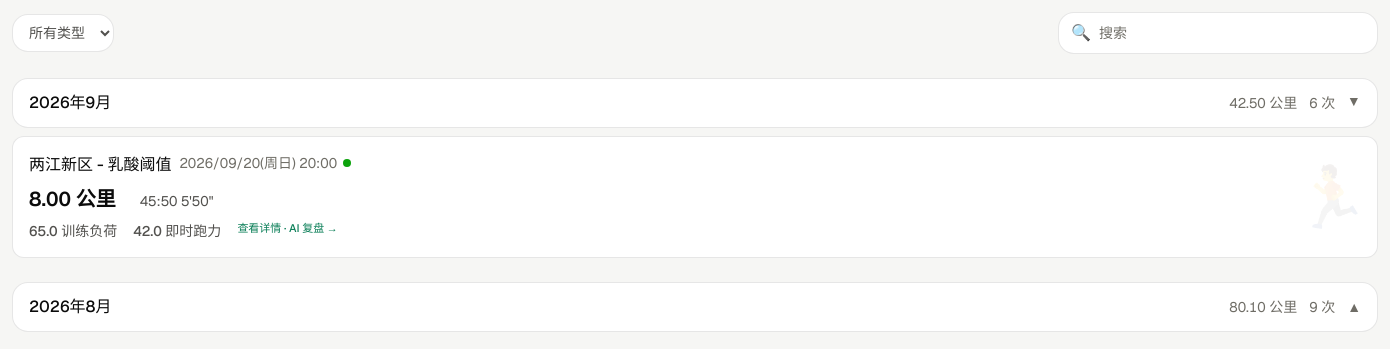
Test: ListClient 活动列表 (交互/筛选/无限滚动) › 搜索: 无匹配时给出筛选生效提示
The image size is (1390, 349).
Type "不存在的路线" into the search field named "搜索活动" at coordinates (1232, 33), box [1099,23,1365,43]
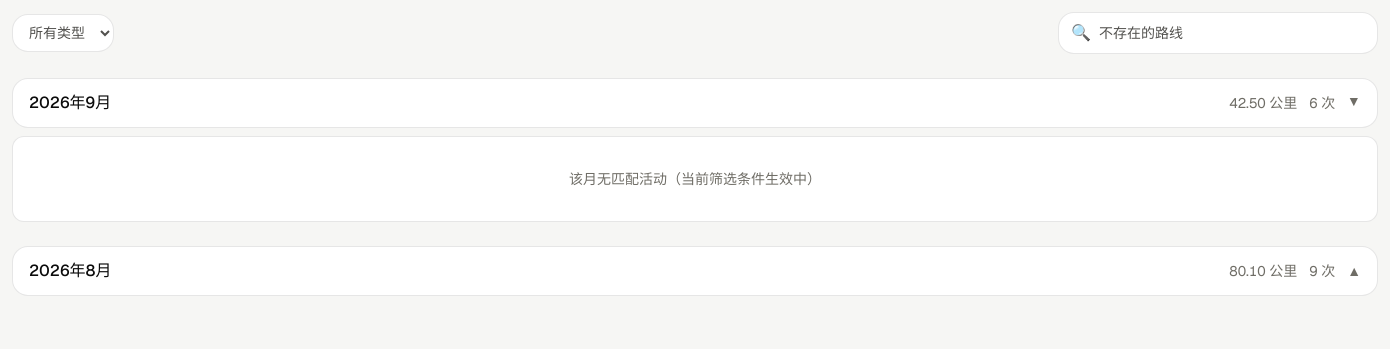
Now the text "该月无匹配活动（当前筛选条件生效中）" is shown, box [12,136,1378,222]
Replace the text in the search field named "搜索活动" with "乳酸" at coordinates (1232, 33), box [1099,23,1365,43]
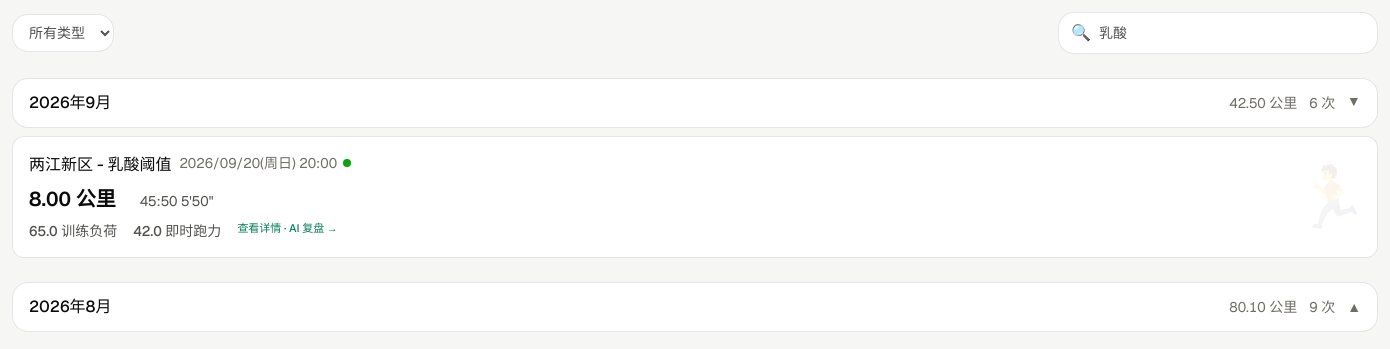
Now the button "两江新区" is shown, box [12,136,1378,258]
